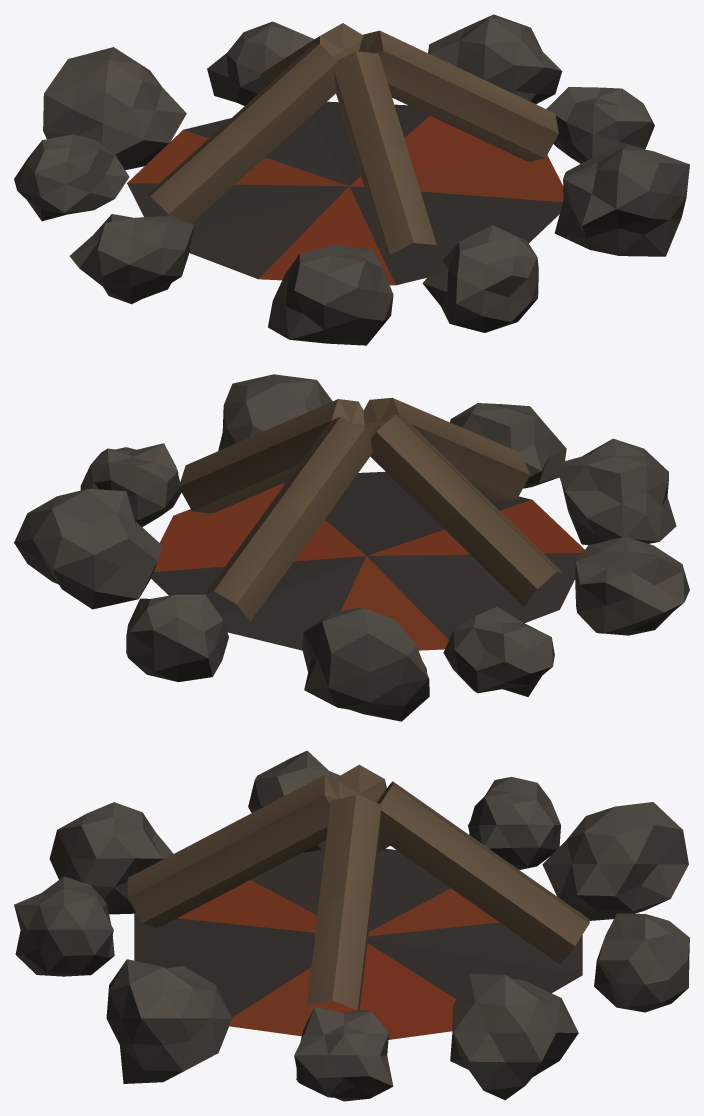
The model's file is campfire.glb.
3 views of the same model, one above another, from view 1: azimuth 30°, elevation 25°; view 2: azimuth 150°, elevation 25°; view 3: azimuth 270°, elevation 25° (orthographic). The views are drawn at different scales.
Visible parts, largest first — view 1: campfire_solid; view 2: campfire_solid; view 3: campfire_solid.
Part boxes in pixels (box(x1,y1,x2,y2)): campfire_solid: box(14, 14, 689, 345); campfire_solid: box(14, 374, 689, 721); campfire_solid: box(14, 750, 689, 1101).
Bounding box in the file's own units: 1.8 × 0.565 × 1.72.
